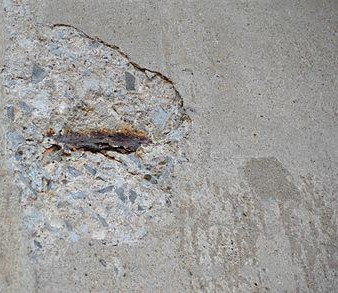Exposed reinforcement: (42, 129, 149, 154)
Spalling: (1, 1, 194, 257)
